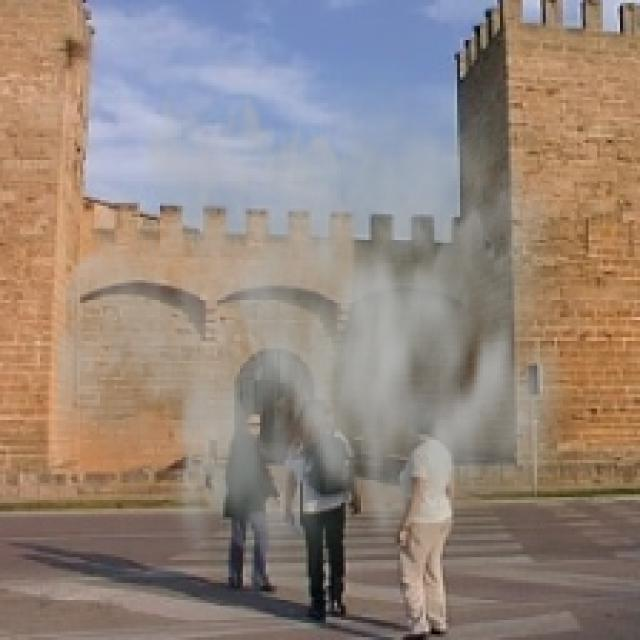smoke: (57, 34, 600, 589)
